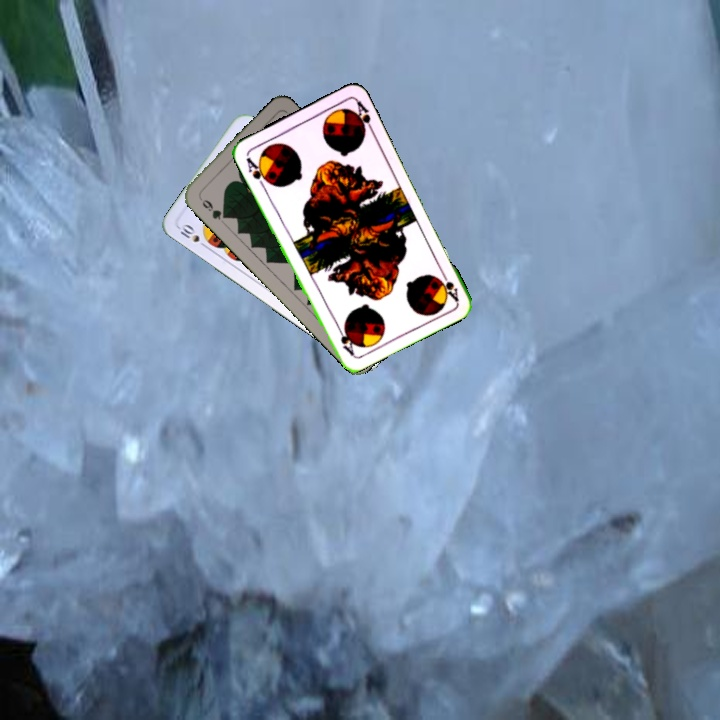G9: (195, 192, 230, 222)
S10: (175, 220, 210, 251)
SA: (242, 153, 272, 190), (433, 266, 461, 304)
